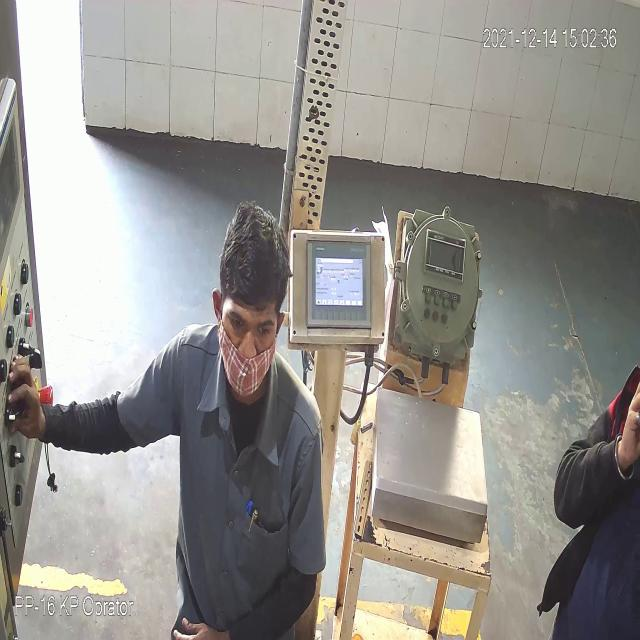Mask: (218, 321, 276, 396)
No Earmuff: (211, 288, 223, 321), (276, 313, 285, 337)
No Glove: (9, 356, 46, 440), (174, 617, 229, 639)
No Hardhat: (220, 201, 291, 312)
No Overall Suit: (116, 325, 325, 630)
